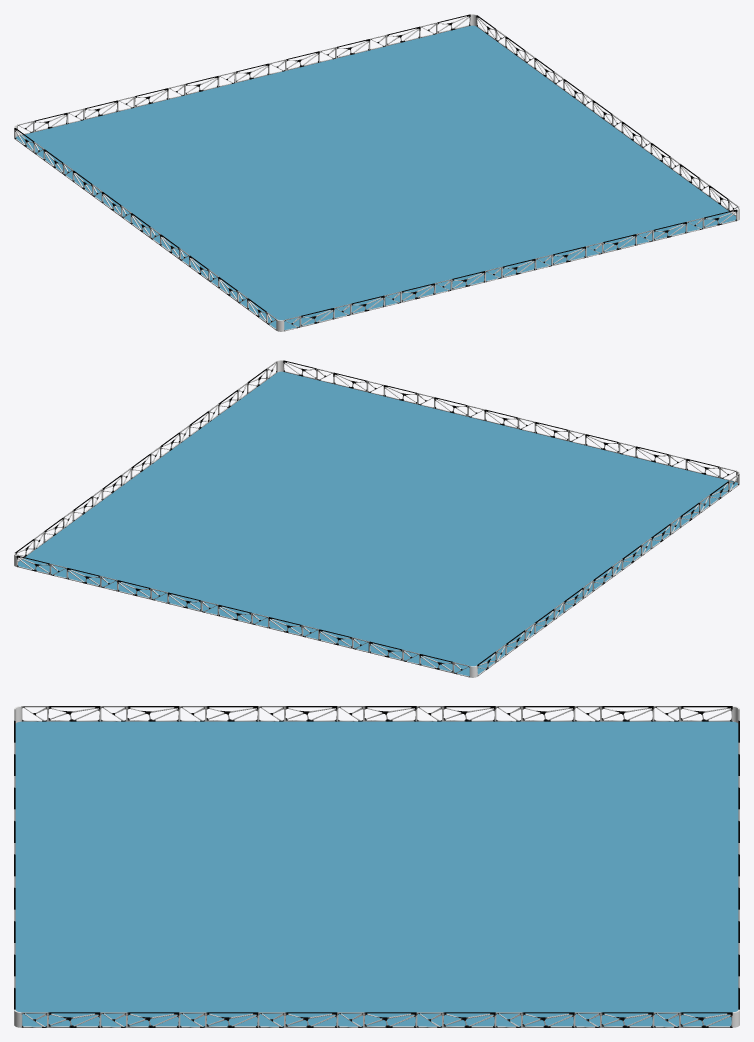
File: Level_196x196.fbx
3 views of the same model, one above another, from view 1: azimuth 30°, elevation 25°; view 2: azimuth 150°, elevation 25°; view 3: azimuth 270°, elevation 25° (orthographic). The views are drawn at different scales.
Parts seen in each view (by area): view 1: Ground; view 2: Ground; view 3: Ground.
Part boxes in pixels (x1=…): Ground: x1=16, y1=25, x2=735, y2=329; Ground: x1=18, y1=371, x2=737, y2=675; Ground: x1=15, y1=721, x2=738, y2=1026.
Size of the model in its own units: 22050 by 500 by 22050.
